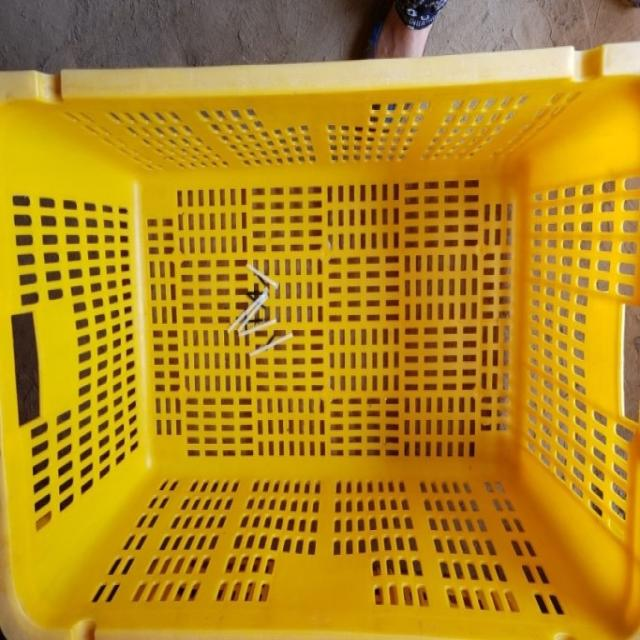basket: (0, 43, 640, 638)
